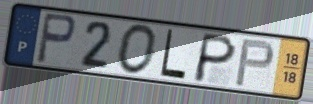2: (78, 20, 113, 71)
L: (158, 28, 188, 82)
O: (116, 22, 160, 77)
P: (190, 31, 240, 85), (34, 11, 78, 66), (232, 38, 276, 89)
